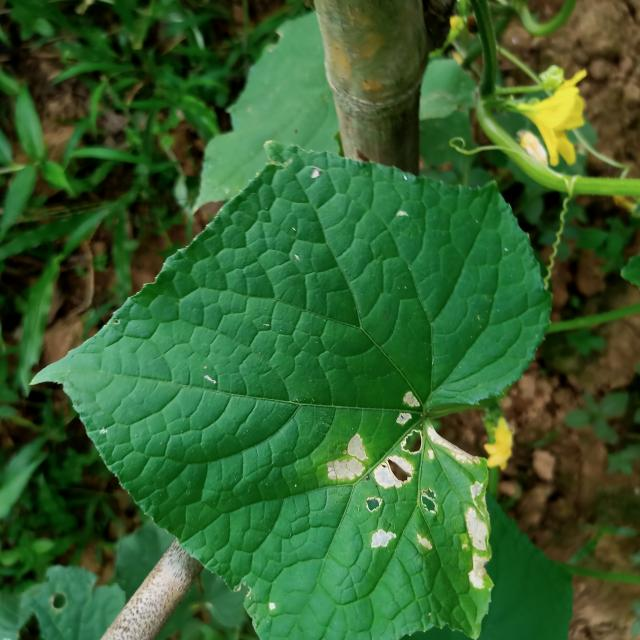disease_cucumber: (327, 392, 490, 588)
